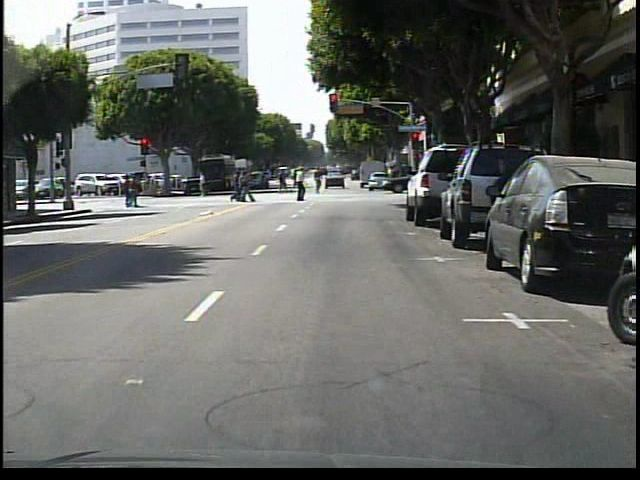person: (288, 165, 309, 203), (191, 168, 211, 198), (309, 166, 327, 195)
